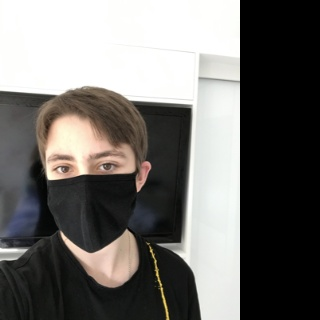with_mask: (46, 133, 138, 253)
